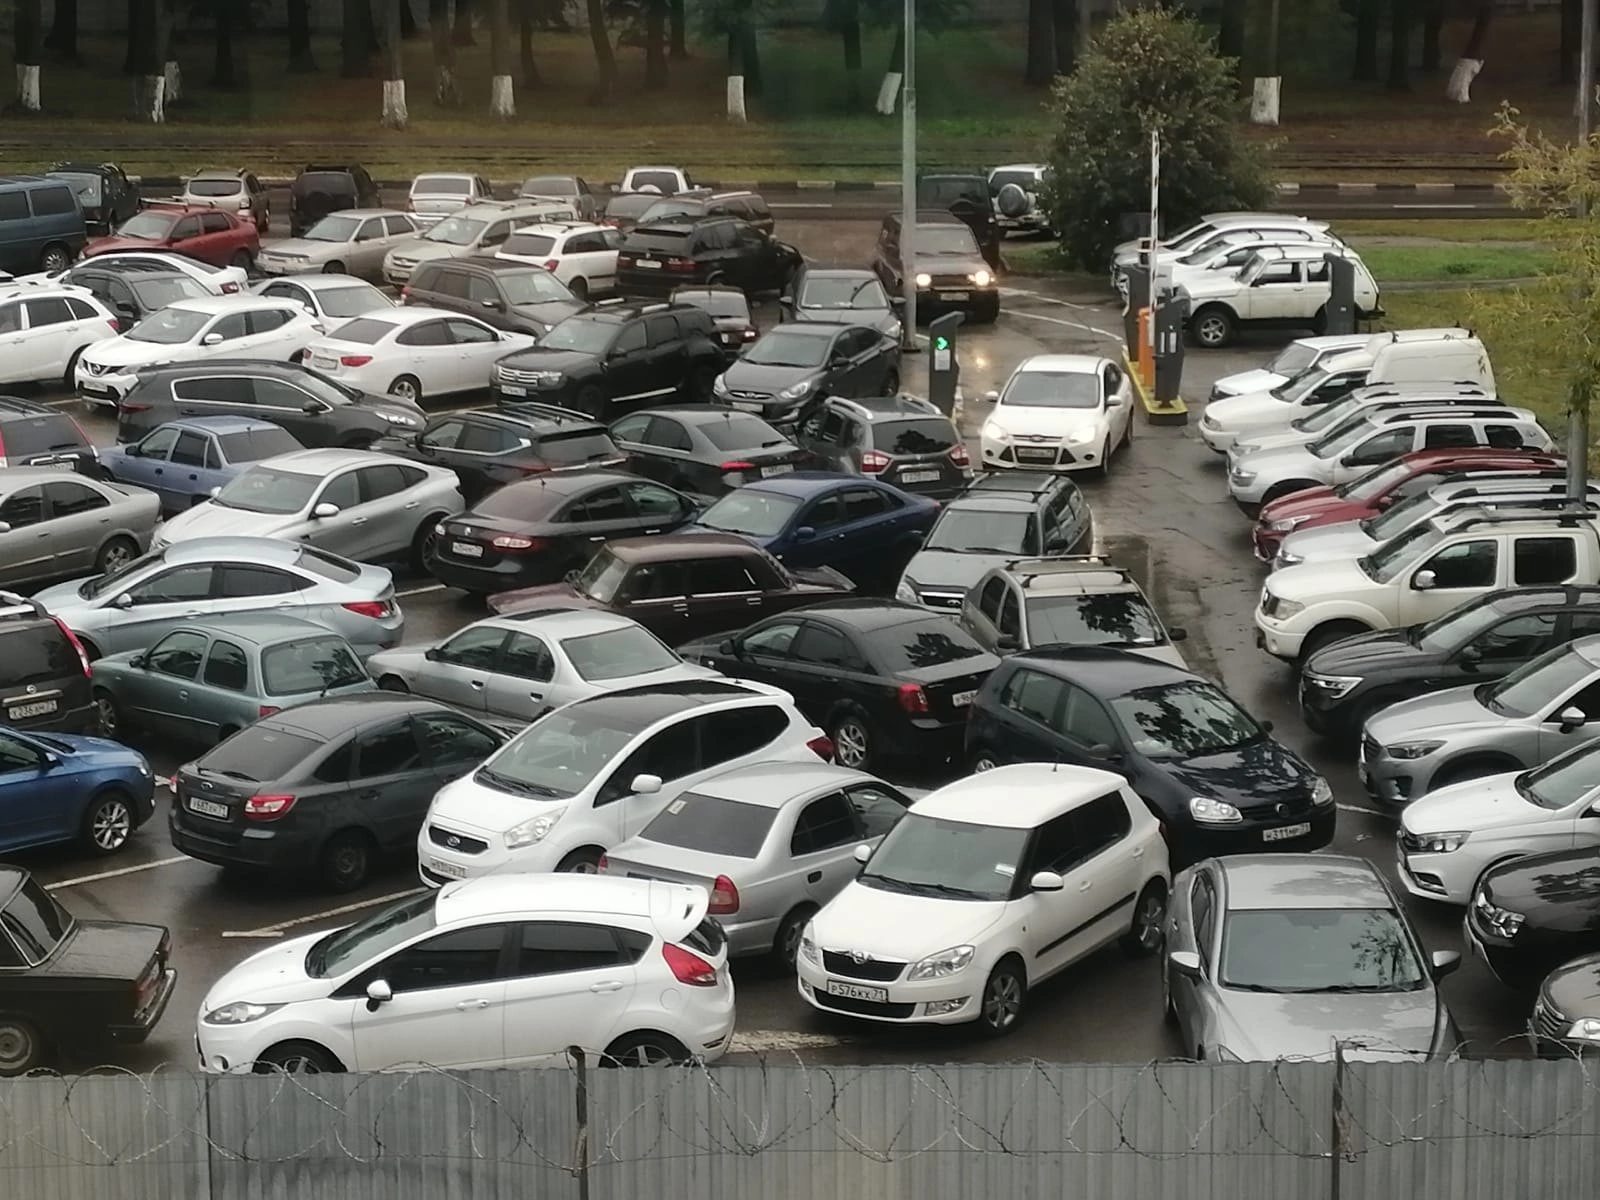Car: (195, 874, 736, 1074), (795, 764, 1170, 1034), (417, 678, 831, 887), (965, 648, 1337, 867), (168, 692, 509, 890), (600, 763, 920, 968), (1162, 855, 1459, 1063), (1254, 504, 1600, 668), (682, 599, 998, 769), (1296, 585, 1600, 742), (30, 539, 404, 661), (1358, 635, 1600, 813), (489, 533, 854, 642), (1198, 326, 1498, 455), (1251, 446, 1570, 566), (369, 611, 709, 724), (152, 450, 464, 572), (93, 616, 374, 750), (0, 865, 176, 1076), (1226, 405, 1557, 517), (1396, 735, 1600, 905), (428, 470, 697, 596), (671, 473, 939, 592), (1272, 478, 1600, 572), (896, 471, 1095, 614), (76, 295, 323, 408), (491, 303, 727, 418), (118, 361, 426, 447), (960, 558, 1187, 669), (375, 405, 626, 503), (1226, 386, 1497, 475), (304, 308, 533, 405), (1175, 247, 1388, 349), (714, 321, 901, 432), (100, 417, 304, 517), (0, 726, 156, 856), (1464, 845, 1600, 993), (787, 395, 971, 500), (976, 354, 1135, 476), (0, 468, 160, 589), (610, 407, 805, 498), (1121, 228, 1353, 304), (383, 200, 576, 289), (1109, 221, 1344, 287), (619, 218, 803, 299), (401, 258, 585, 338), (874, 208, 1002, 320), (0, 592, 98, 735), (0, 284, 118, 388), (78, 205, 260, 271), (1209, 334, 1376, 402), (258, 211, 420, 279), (1110, 213, 1309, 267), (11, 253, 249, 297), (63, 261, 209, 332), (228, 272, 398, 332), (494, 223, 620, 300), (780, 267, 907, 342), (917, 169, 999, 274), (0, 178, 86, 274), (0, 397, 100, 476), (1527, 952, 1600, 1058), (48, 161, 145, 237), (290, 165, 386, 237), (637, 190, 777, 237), (671, 287, 757, 355), (184, 169, 271, 231), (403, 173, 498, 229), (986, 164, 1052, 238), (518, 173, 598, 221), (610, 165, 704, 197), (601, 195, 664, 232)
